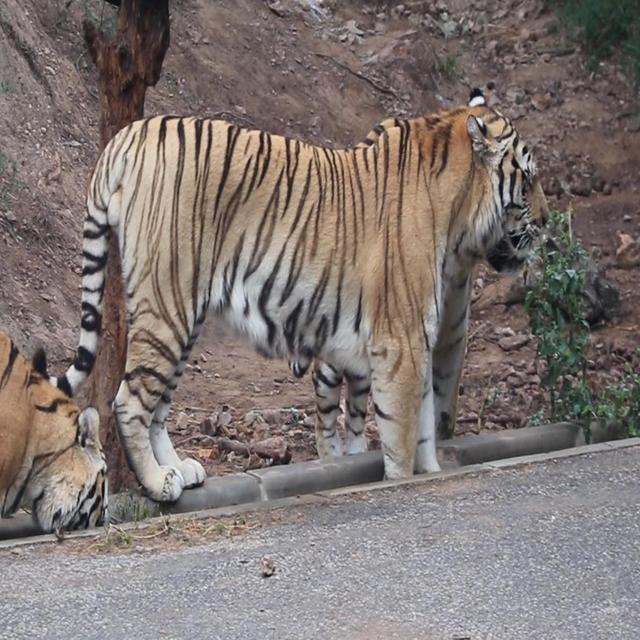tiger: (50, 83, 556, 528), (1, 294, 136, 596)
